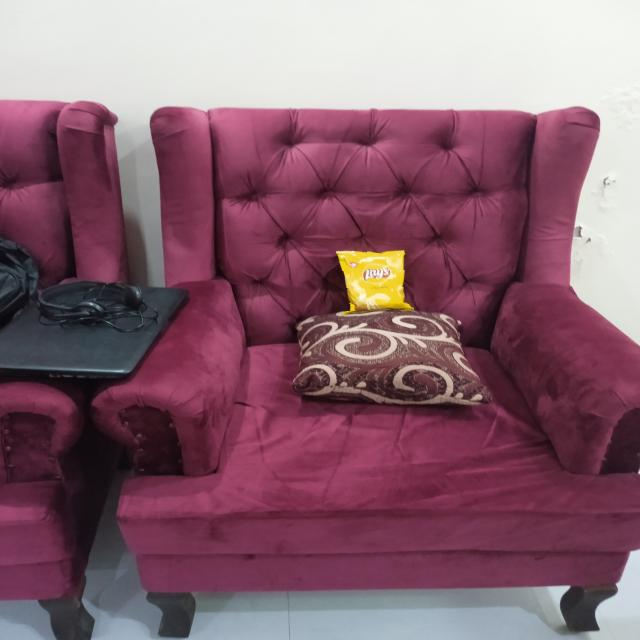Plastic: (332, 245, 414, 311)
